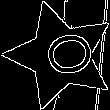O_W: (28, 27, 92, 83)
